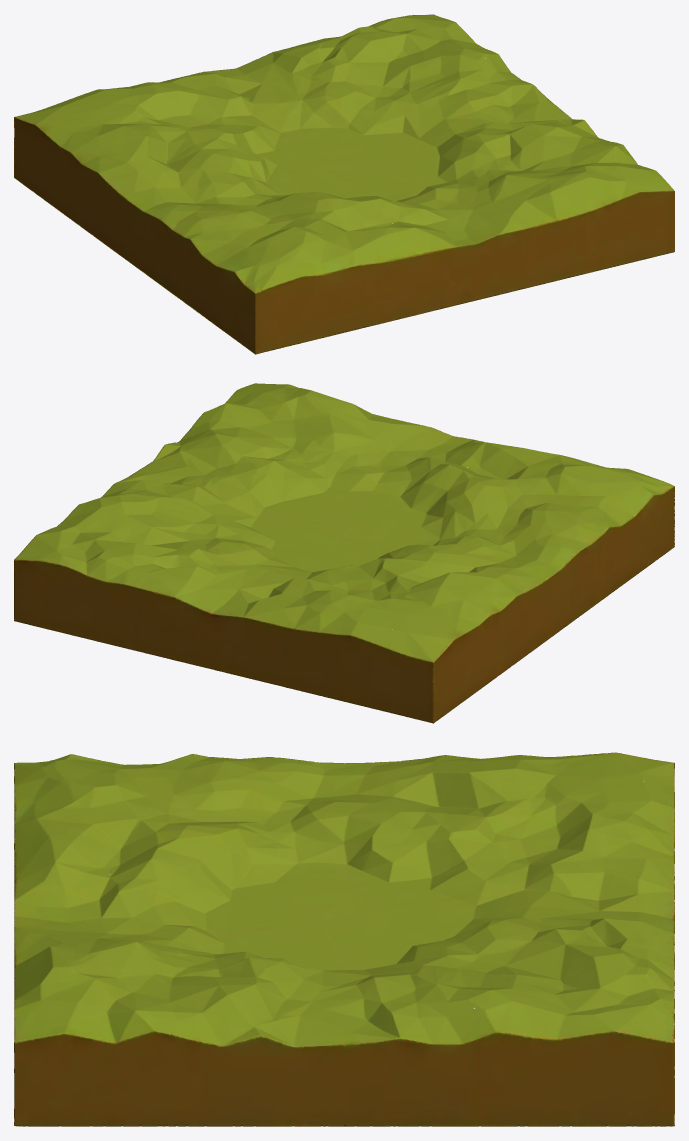
File: landscape.glb
The picture shows the model from 3 angles, top to bottom: view 1: azimuth 30°, elevation 25°; view 2: azimuth 150°, elevation 25°; view 3: azimuth 270°, elevation 25°; orthographic projection. The views are drawn at different scales.
Visible parts, largest first — view 1: tripo_node_0d51ffdd-290c-4a4b-99e8-e2d679bfc4fa; view 2: tripo_node_0d51ffdd-290c-4a4b-99e8-e2d679bfc4fa; view 3: tripo_node_0d51ffdd-290c-4a4b-99e8-e2d679bfc4fa.
Part boxes in pixels (box(x1,y1,x2,y2)): tripo_node_0d51ffdd-290c-4a4b-99e8-e2d679bfc4fa: box(14, 14, 674, 354); tripo_node_0d51ffdd-290c-4a4b-99e8-e2d679bfc4fa: box(14, 383, 674, 723); tripo_node_0d51ffdd-290c-4a4b-99e8-e2d679bfc4fa: box(14, 752, 674, 1126).
Size of the model in its own units: 1 by 0.1871 by 0.9966.
Materials: 1 (1 with a texture image).
